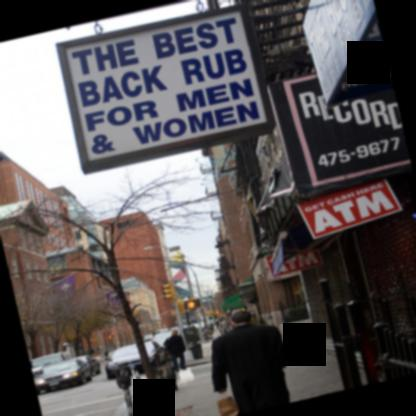handbag: (217, 391, 241, 416)
